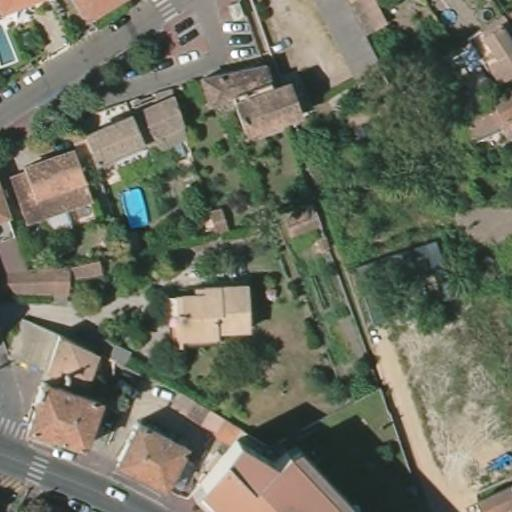pool: (113, 182, 153, 230), (0, 21, 17, 68), (439, 8, 459, 25)
